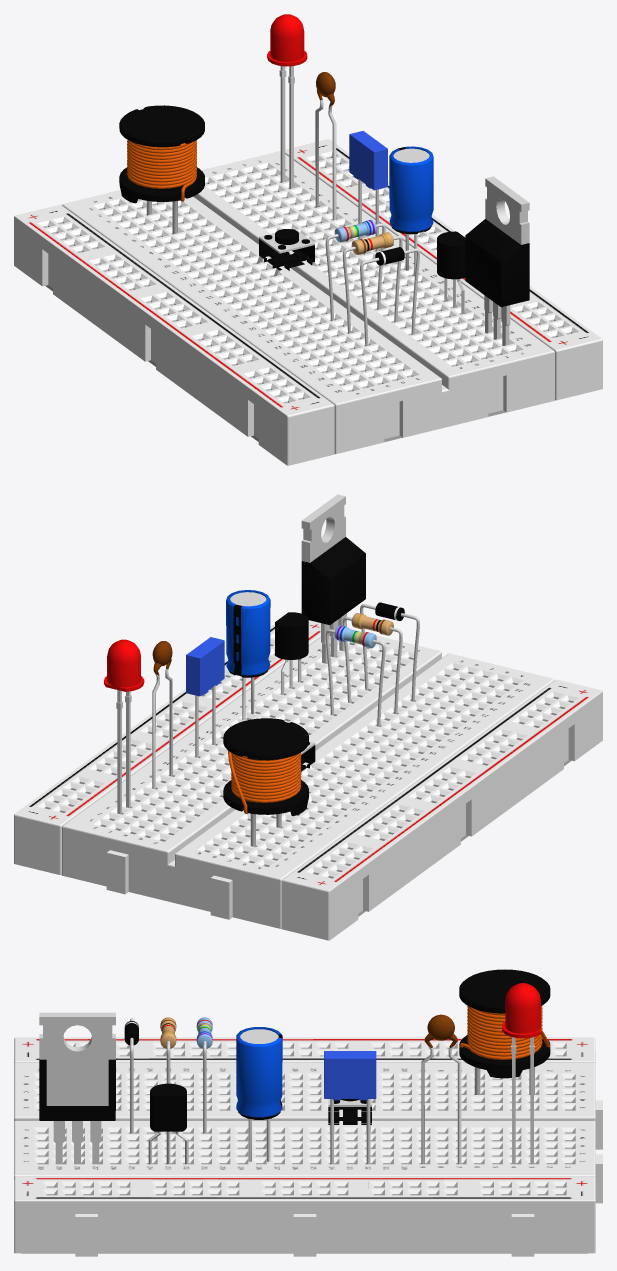
File: td-components_lod1.glb
3 views of the same model, one above another, from view 1: azimuth 30°, elevation 25°; view 2: azimuth 150°, elevation 25°; view 3: azimuth 270°, elevation 25° (orthographic). The views are drawn at different scales.
Visible parts, largest first — view 1: breadboard, inductor, to220, cap_cyl, led, resistor, cap_film, button, to92, cap_ceramic, diode; view 2: breadboard, inductor, to220, cap_cyl, led, resistor, cap_film, to92, cap_ceramic, diode; view 3: breadboard, to220, inductor, cap_cyl, cap_film, led, to92, cap_ceramic, resistor, button, diode.
Boxes of the visible parts, x1,y1,x2,y2 form: breadboard: (14, 139, 602, 465); inductor: (119, 105, 204, 234); to220: (465, 176, 529, 345); cap_cyl: (389, 146, 433, 276); led: (267, 14, 307, 189); resistor: (325, 219, 402, 333); cap_film: (349, 131, 387, 251); button: (256, 228, 316, 276); to92: (437, 231, 465, 314); cap_ceramic: (315, 72, 336, 220); diode: (360, 247, 419, 346); breadboard: (14, 620, 602, 940); inductor: (223, 718, 308, 847); to220: (301, 494, 365, 663); cap_cyl: (226, 590, 270, 720); led: (104, 639, 144, 814); resistor: (325, 613, 402, 726); cap_film: (186, 637, 224, 757); to92: (275, 612, 308, 694); cap_ceramic: (152, 641, 172, 789); diode: (360, 602, 419, 701); breadboard: (14, 1037, 602, 1256); to220: (39, 1012, 115, 1164); inductor: (459, 969, 550, 1094); cap_cyl: (236, 1027, 282, 1161); cap_film: (324, 1051, 376, 1164); led: (502, 983, 540, 1164); to92: (148, 1083, 188, 1164); cap_ceramic: (421, 1014, 461, 1164); resistor: (160, 1017, 212, 1133); button: (328, 1099, 371, 1133); diode: (124, 1018, 138, 1133).
Size of the model in its own units: 0.0542 by 0.0353 by 0.081.
Materials: 27 (1 with a texture image).
